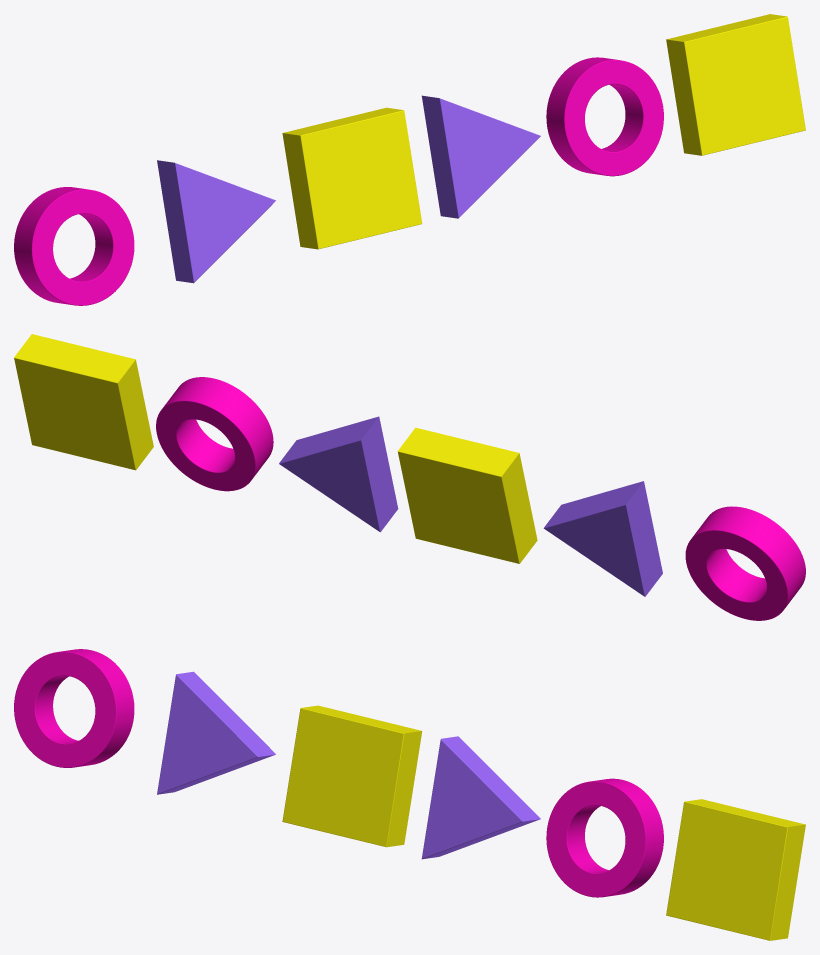
Rendered from rowmodel.glb.
3 views of the same model, one above another, from view 1: azimuth 30°, elevation 25°; view 2: azimuth 150°, elevation 25°; view 3: azimuth 330°, elevation 25° (orthographic).
Visible parts, largest first — view 1: Rectangle 76, Rectangle 77, Ellipse 17, Ellipse 16, Polygon 12, Polygon 11; view 2: Rectangle 77, Rectangle 76, Ellipse 17, Ellipse 16, Polygon 11, Polygon 12; view 3: Rectangle 76, Rectangle 77, Ellipse 17, Ellipse 16, Polygon 12, Polygon 11.
Part boxes in pixels (x1,y1,x2,y2): Rectangle 76: [666, 14, 805, 155]; Rectangle 77: [282, 107, 422, 249]; Ellipse 17: [14, 187, 134, 305]; Ellipse 16: [546, 57, 663, 176]; Polygon 12: [157, 160, 275, 283]; Polygon 11: [421, 95, 540, 218]; Rectangle 77: [397, 427, 537, 563]; Rectangle 76: [14, 334, 153, 470]; Ellipse 17: [685, 506, 805, 620]; Ellipse 16: [156, 377, 273, 491]; Polygon 11: [279, 416, 398, 532]; Polygon 12: [543, 481, 662, 596]; Rectangle 76: [666, 799, 805, 940]; Rectangle 77: [282, 705, 422, 847]; Ellipse 17: [14, 649, 134, 767]; Ellipse 16: [546, 778, 663, 897]; Polygon 12: [157, 671, 275, 794]; Polygon 11: [421, 736, 540, 859].
Size of the model in its own units: 25 by 3.66 by 2.1.
